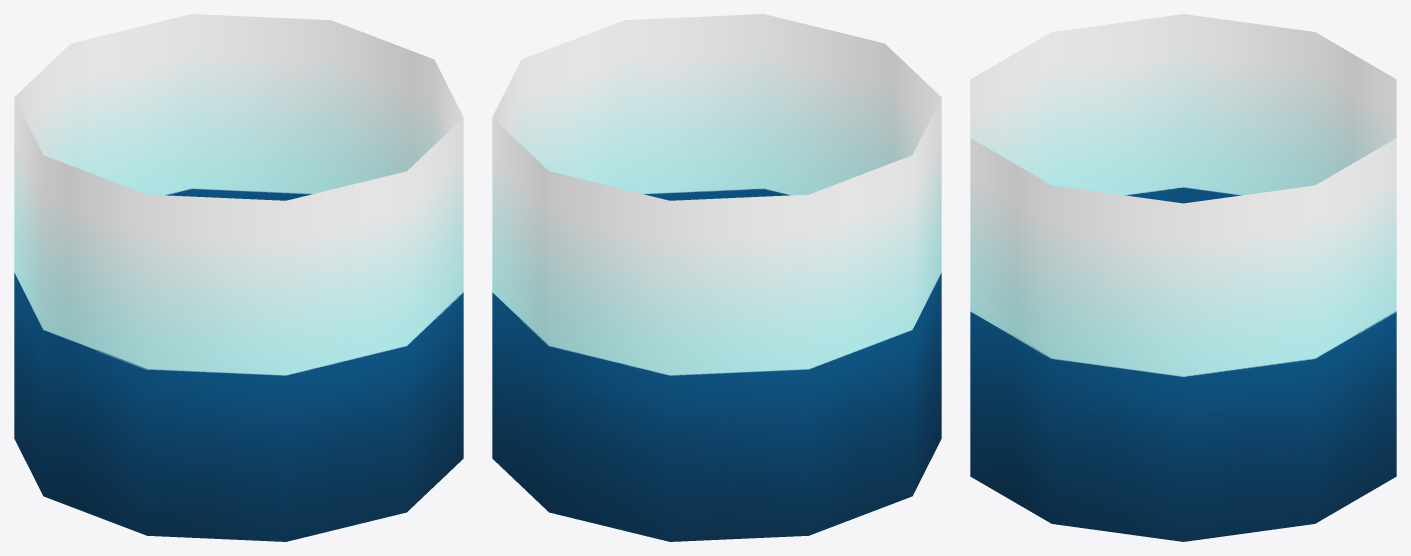
The model's file is 3D 360 bridge.glb.
3 renders of one model, left to right at view 1: azimuth 30°, elevation 25°; view 2: azimuth 150°, elevation 25°; view 3: azimuth 270°, elevation 25°, orthographic.
Parts seen in each view (by area): view 1: Hall; view 2: Hall; view 3: Hall.
Part boxes in pixels (<box>): Hall: <box>14,14,463,541</box>; Hall: <box>492,14,941,541</box>; Hall: <box>970,14,1396,541</box>.
Size of the model in its own units: 36 by 30 by 34.24.
6 materials, 3 textured.
